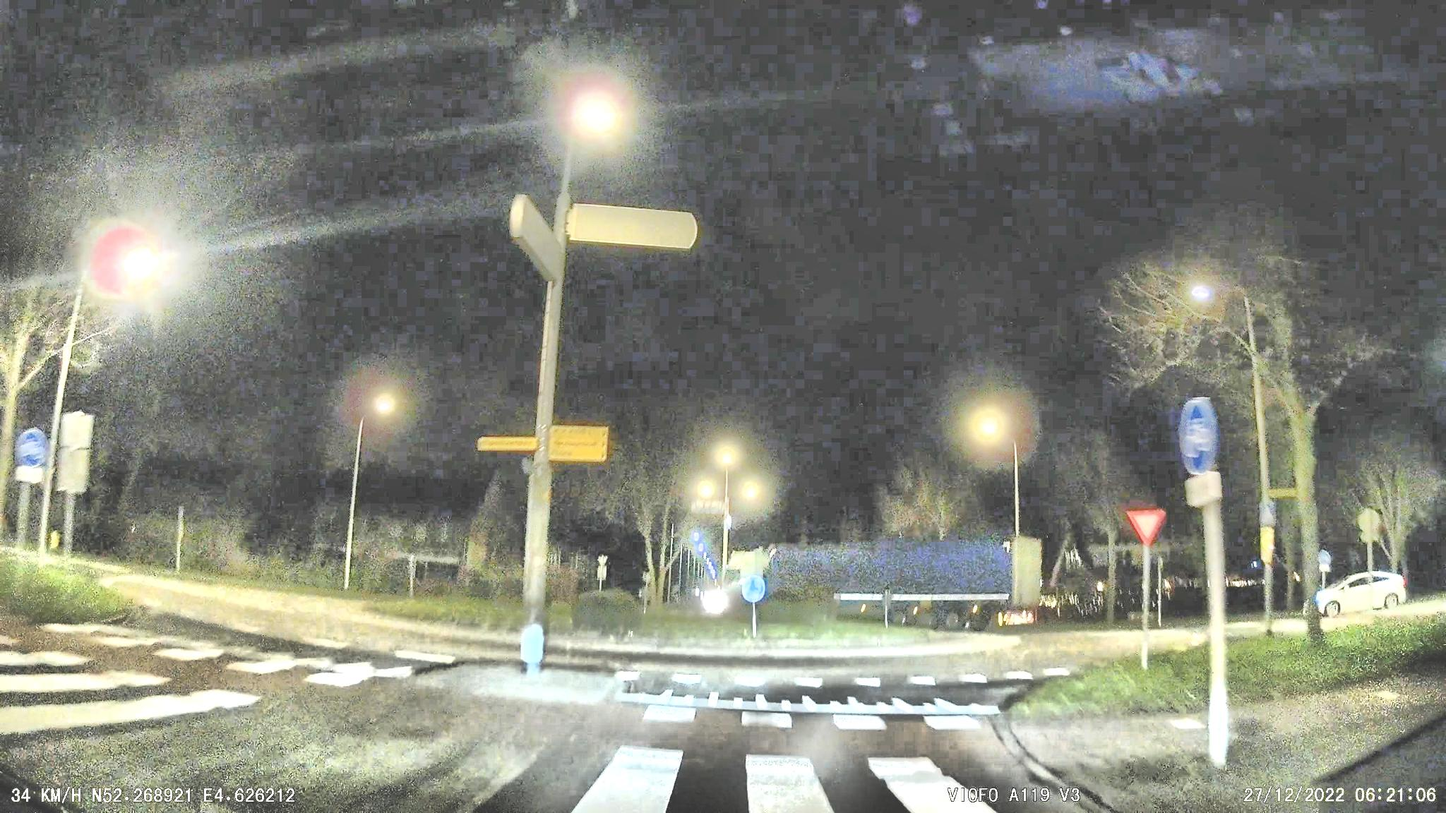Roads: (497, 642, 1122, 813)
